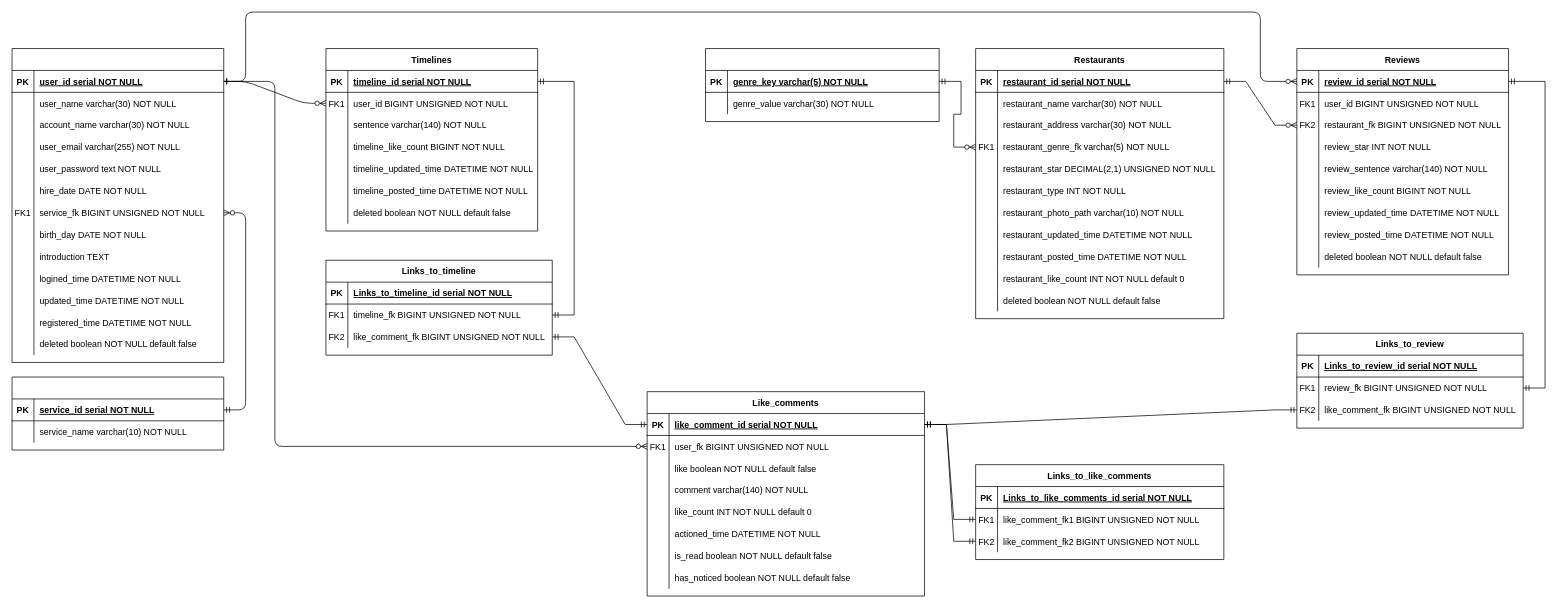
Some shapes in this 1557 by 608 pixel diagram are drawn without their labels. Here are the shapes that lost their labels. From the top down, the box of each, then its label:
(705, 48, 939, 122): Restaurant_genres
(11, 48, 224, 362): Users
(11, 376, 224, 450): Services
